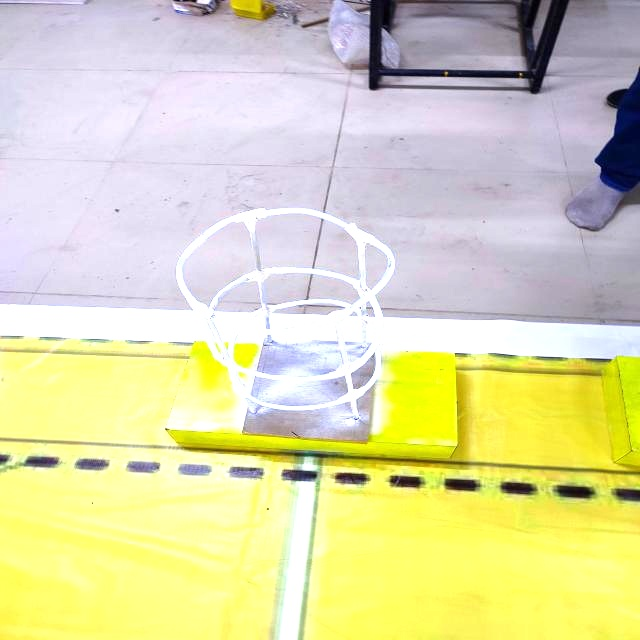silo: (168, 193, 420, 455)
